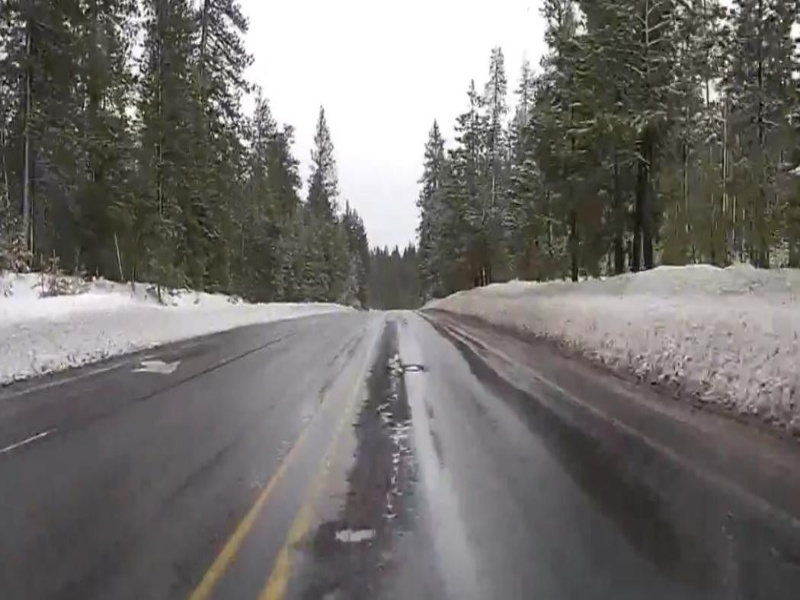pothole: (330, 521, 377, 547), (402, 363, 428, 372)
